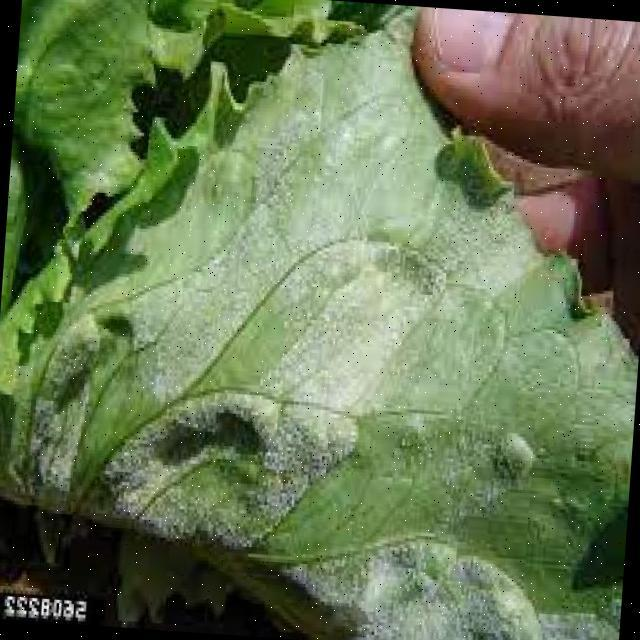Downy_Mildew: (21, 194, 514, 554)
